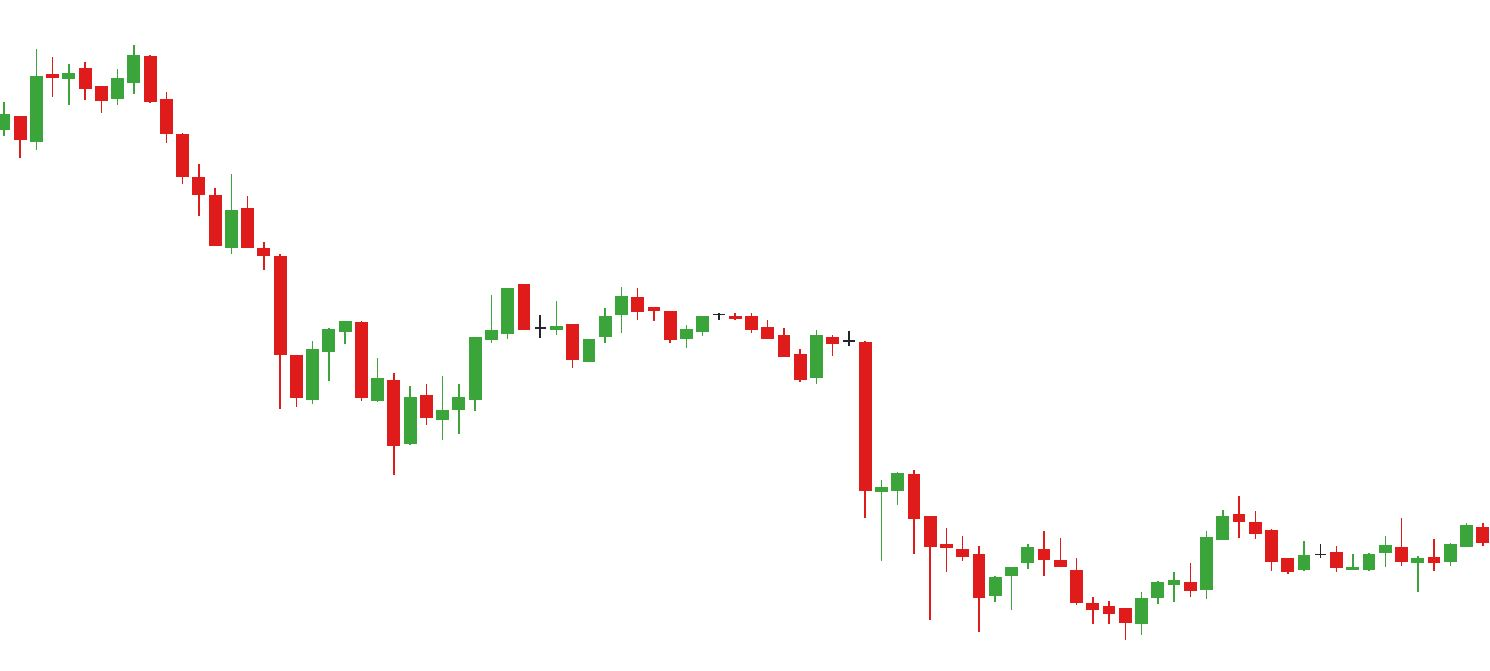buy: (974, 562, 1149, 641)
